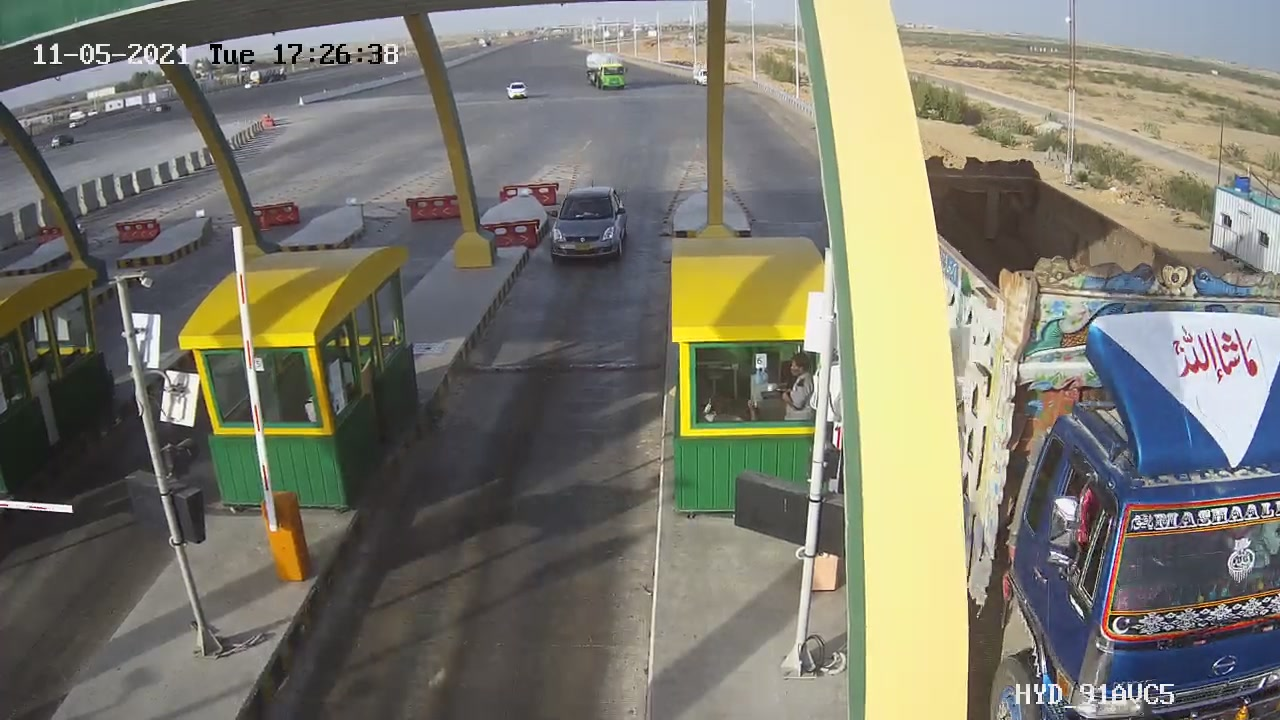F1: (533, 174, 648, 277)
